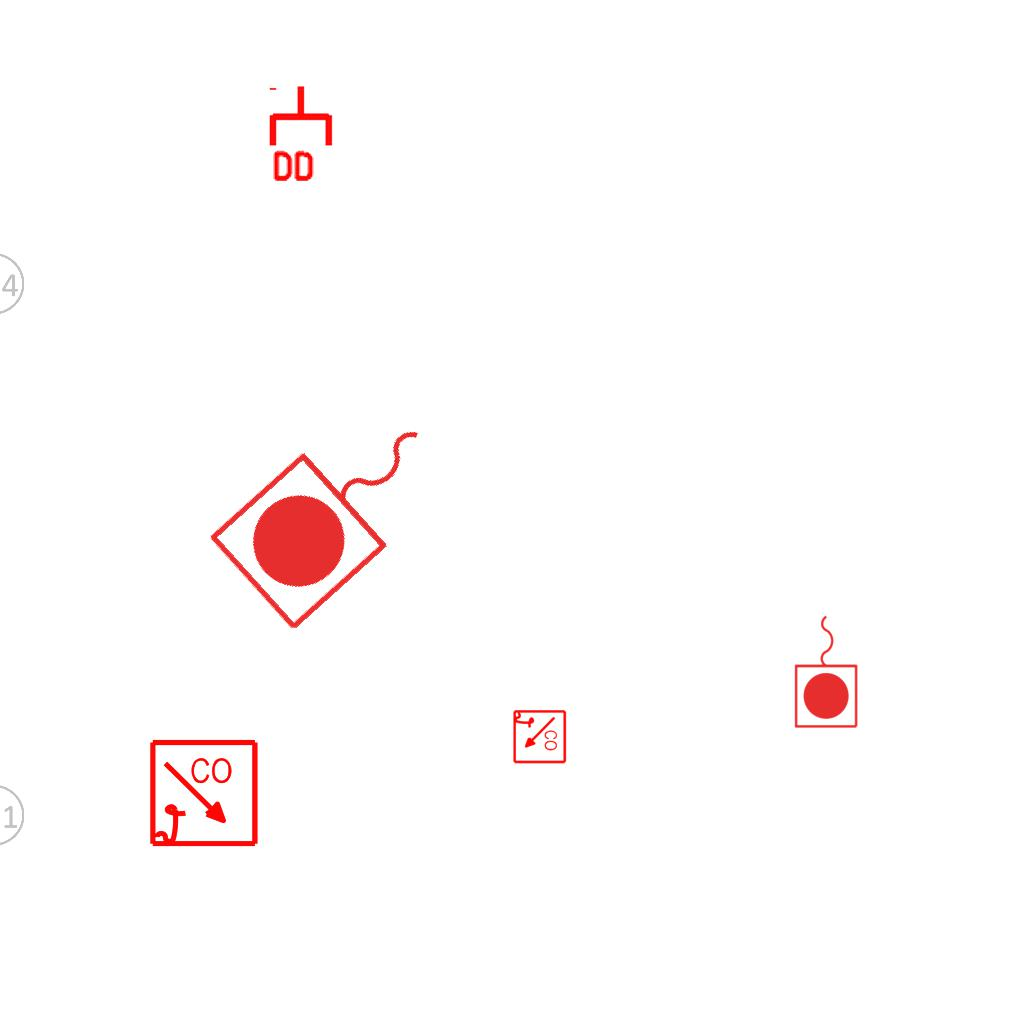Datenanschluss_zweifach: (268, 83, 337, 186)
ROA_Rauchmelder_optisch_mit_Signalgeber_(Sockelsirene): (148, 738, 261, 851), (511, 709, 567, 765)
Zugtaster: (198, 373, 476, 645), (791, 610, 863, 732)
